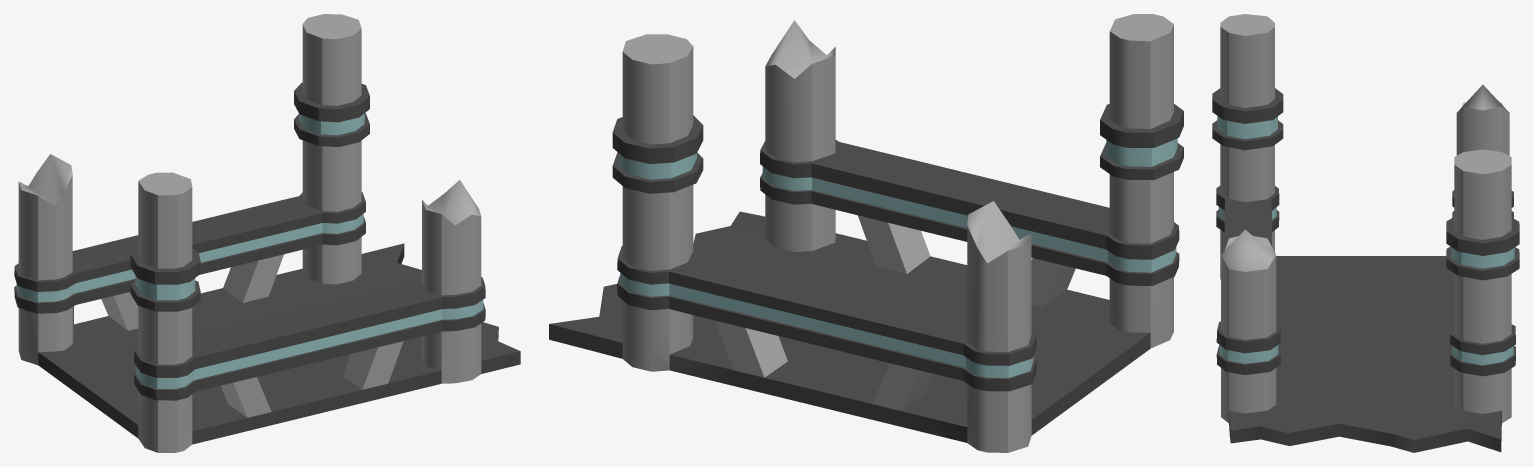
Rendered from puente roto.fbx.
3 views of the same model, side by side, from view 1: azimuth 30°, elevation 25°; view 2: azimuth 150°, elevation 25°; view 3: azimuth 270°, elevation 25° (orthographic). The views are drawn at different scales.
Parts seen in each view (by area): view 1: broken_bridge; view 2: broken_bridge; view 3: broken_bridge.
Part boxes in pixels (box(x1,y1,x2,y2)): broken_bridge: box(14, 14, 520, 452); broken_bridge: box(549, 14, 1183, 452); broken_bridge: box(1212, 14, 1519, 452).
Bounding box in the file's own units: 2.58 × 1.6 × 1.76.
